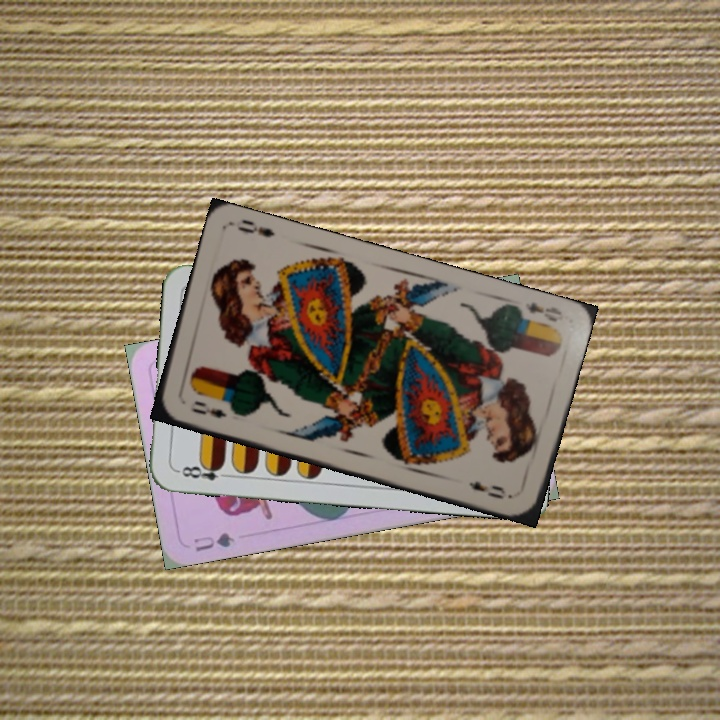E8: (173, 459, 232, 483)
EO: (521, 298, 566, 325), (186, 396, 229, 421)
GU: (190, 528, 237, 555)
